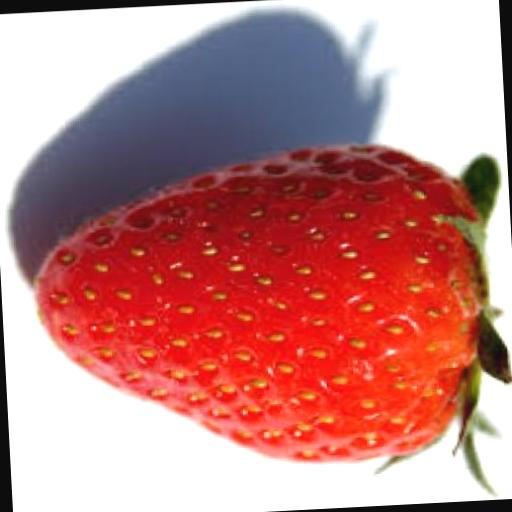biodegradable: (29, 139, 512, 512)
